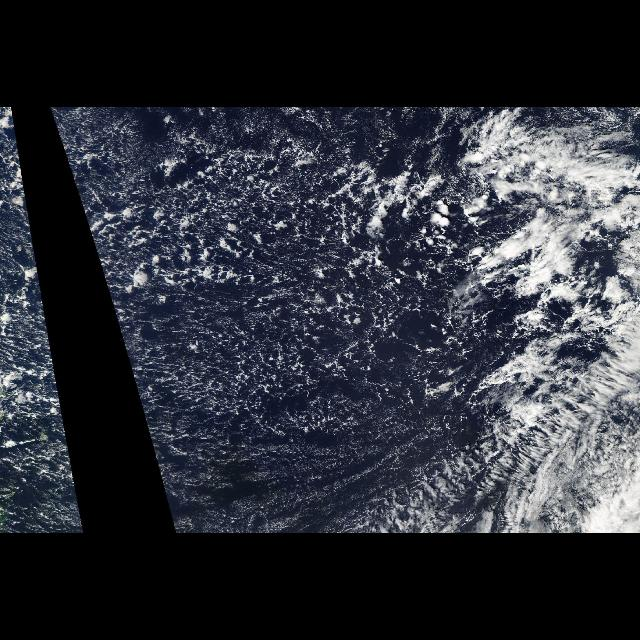Gravel: (54, 120, 456, 488), (22, 168, 78, 490)
